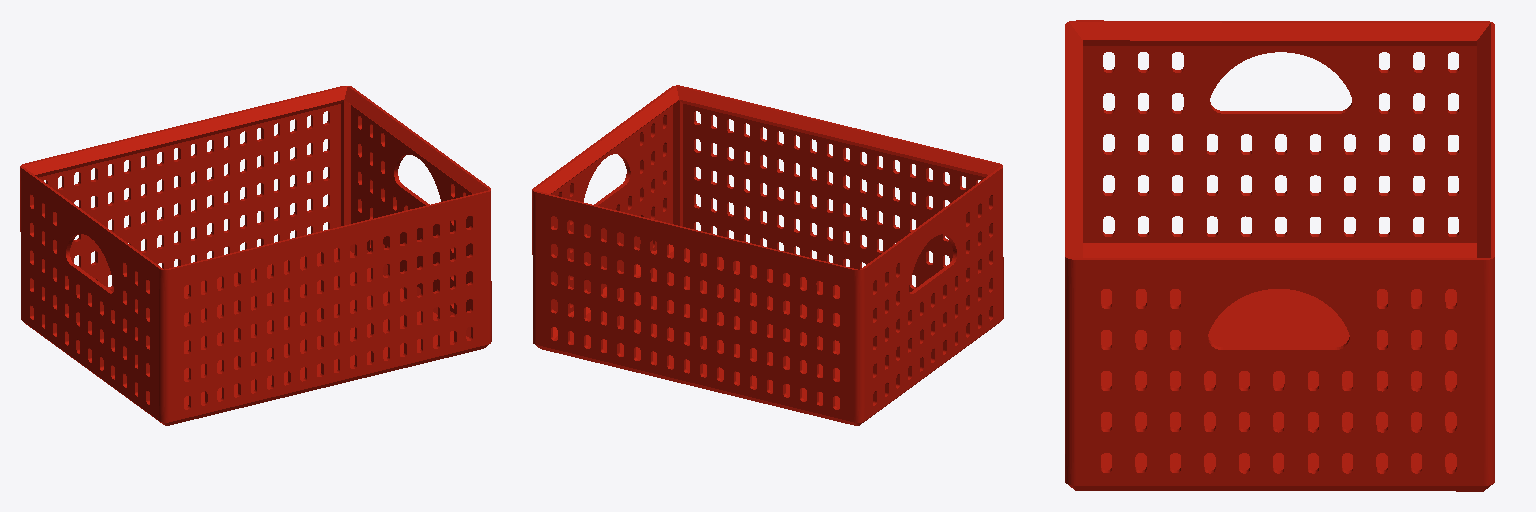
URDF robot description (basket_with_visible_collision):
<?xml version="1.0"?>
<robot name="basket_with_visible_collision">

  <link name="basket">
    
    <!-- Geometría visual del canasto original -->
    <visual>
      <origin xyz="0 0 0" rpy="1.57 0 0" />
      <geometry>
        <mesh filename="package://katana/katana/stackable_basket_original_L.stl" scale="0.0007 0.0007 0.0007"/>
      </geometry>
      <material name="red">
        <color rgba="0.753 0.157 0.094 1.0"/>
      </material>
    </visual>

<collision>
    <!-- Fondo del canasto -->
    <origin xyz="0.09 -0.075 0" rpy="0 0 0" />
    <geometry>
        <box size="0.17 0.13 0.01"/>
    </geometry>
</collision>
<collision>
    <!-- Lado 1 del canasto -->
    <origin xyz="0.09 -0.01 0.05" rpy="0 0 0" />
    <geometry>
        <box size="0.17 0.01 0.07"/>
    </geometry>
</collision>
<collision>
    <!-- Lado 2 del canasto -->
    <origin xyz="0.09 -0.14 0.05" rpy="0 0 0" />
    <geometry>
        <box size="0.17 0.01 0.07"/>
    </geometry>
</collision>
<collision>
    <!-- Lado 3 del canasto -->
    <origin xyz="0.005 -0.07 0.05" rpy="0 0 0" />
    <geometry>
        <box size="0.005 0.14 0.07"/>
    </geometry>
</collision>
<collision>
    <!-- Lado 4 del canasto -->
    <origin xyz="0.175 -0.07 0.05" rpy="0 0 0" />
    <geometry>
        <box size="0.01 0.14 0.07"/>
    </geometry>
</collision>
       
        <!-- Inercia del canasto -->
    <inertial>
      <mass value="1.4047990875" />
      <origin xyz="0 0 0"/>
      <inertia ixx="0.1" ixy="0" ixz="0" 
        iyy="0.1" iyz="0" 
        izz="0.1" />
    </inertial>
    
  </link>

</robot>

--- Facts derived from the render (not from the file) ---
3 views of the same robot in one strip: view 1: azimuth 30°, elevation 25°; view 2: azimuth 150°, elevation 25°; view 3: azimuth 270°, elevation 25° (orthographic).
Model basket_with_visible_collision with 1 links and 0 joints (none), rooted at basket, posed all joints at 0.
Links seen in each view (by area): view 1: basket; view 2: basket; view 3: basket.
Boxes of the visible links, x1,y1,x2,y2 form: basket: [20, 86, 491, 425]; basket: [532, 85, 1003, 425]; basket: [1065, 20, 1494, 491].
Bounding box of the posed robot: 0.175 × 0.1331 × 0.0806 m (x, y, z).
1 mesh visuals loaded from 1 distinct referenced files (1 binary STL).